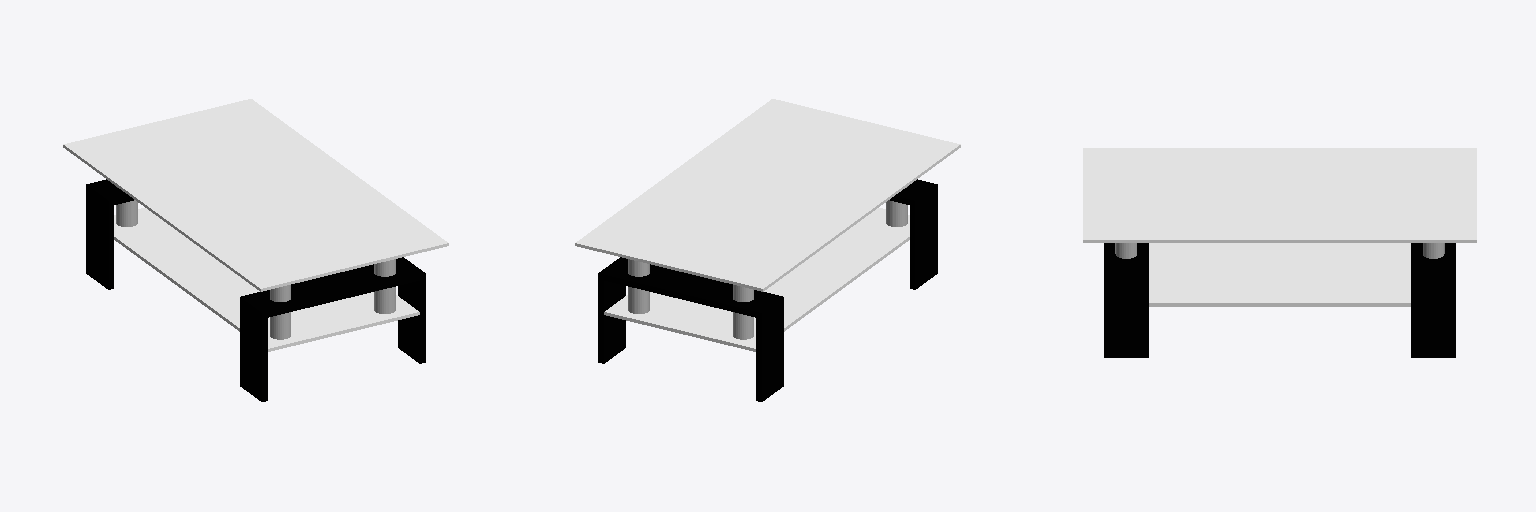
File: GlassTable1.obj
3 views of the same model, side by side, from view 1: azimuth 30°, elevation 25°; view 2: azimuth 150°, elevation 25°; view 3: azimuth 270°, elevation 25° (orthographic).
Visible parts, largest first — view 1: Glass, SecondGlass, Leg_2, Leg_1, Pillars; view 2: Glass, SecondGlass, Leg_1, Leg_2, Pillars; view 3: Glass, SecondGlass, Leg_2, Leg_1, Pillars.
Boxes of the visible parts, x1,y1,x2,y2 form: Glass: [63, 99, 448, 291]; SecondGlass: [114, 208, 419, 351]; Leg_2: [240, 257, 425, 401]; Leg_1: [86, 179, 133, 289]; Pillars: [116, 186, 395, 339]; Glass: [575, 99, 960, 291]; SecondGlass: [604, 208, 909, 351]; Leg_1: [598, 257, 783, 401]; Leg_2: [890, 179, 937, 289]; Pillars: [628, 186, 907, 339]; Glass: [1083, 148, 1476, 242]; SecondGlass: [1149, 243, 1410, 306]; Leg_2: [1104, 243, 1148, 357]; Leg_1: [1411, 243, 1455, 357]; Pillars: [1115, 243, 1444, 258].
Size of the model in its own units: 1.98 by 1.25 by 3.6.